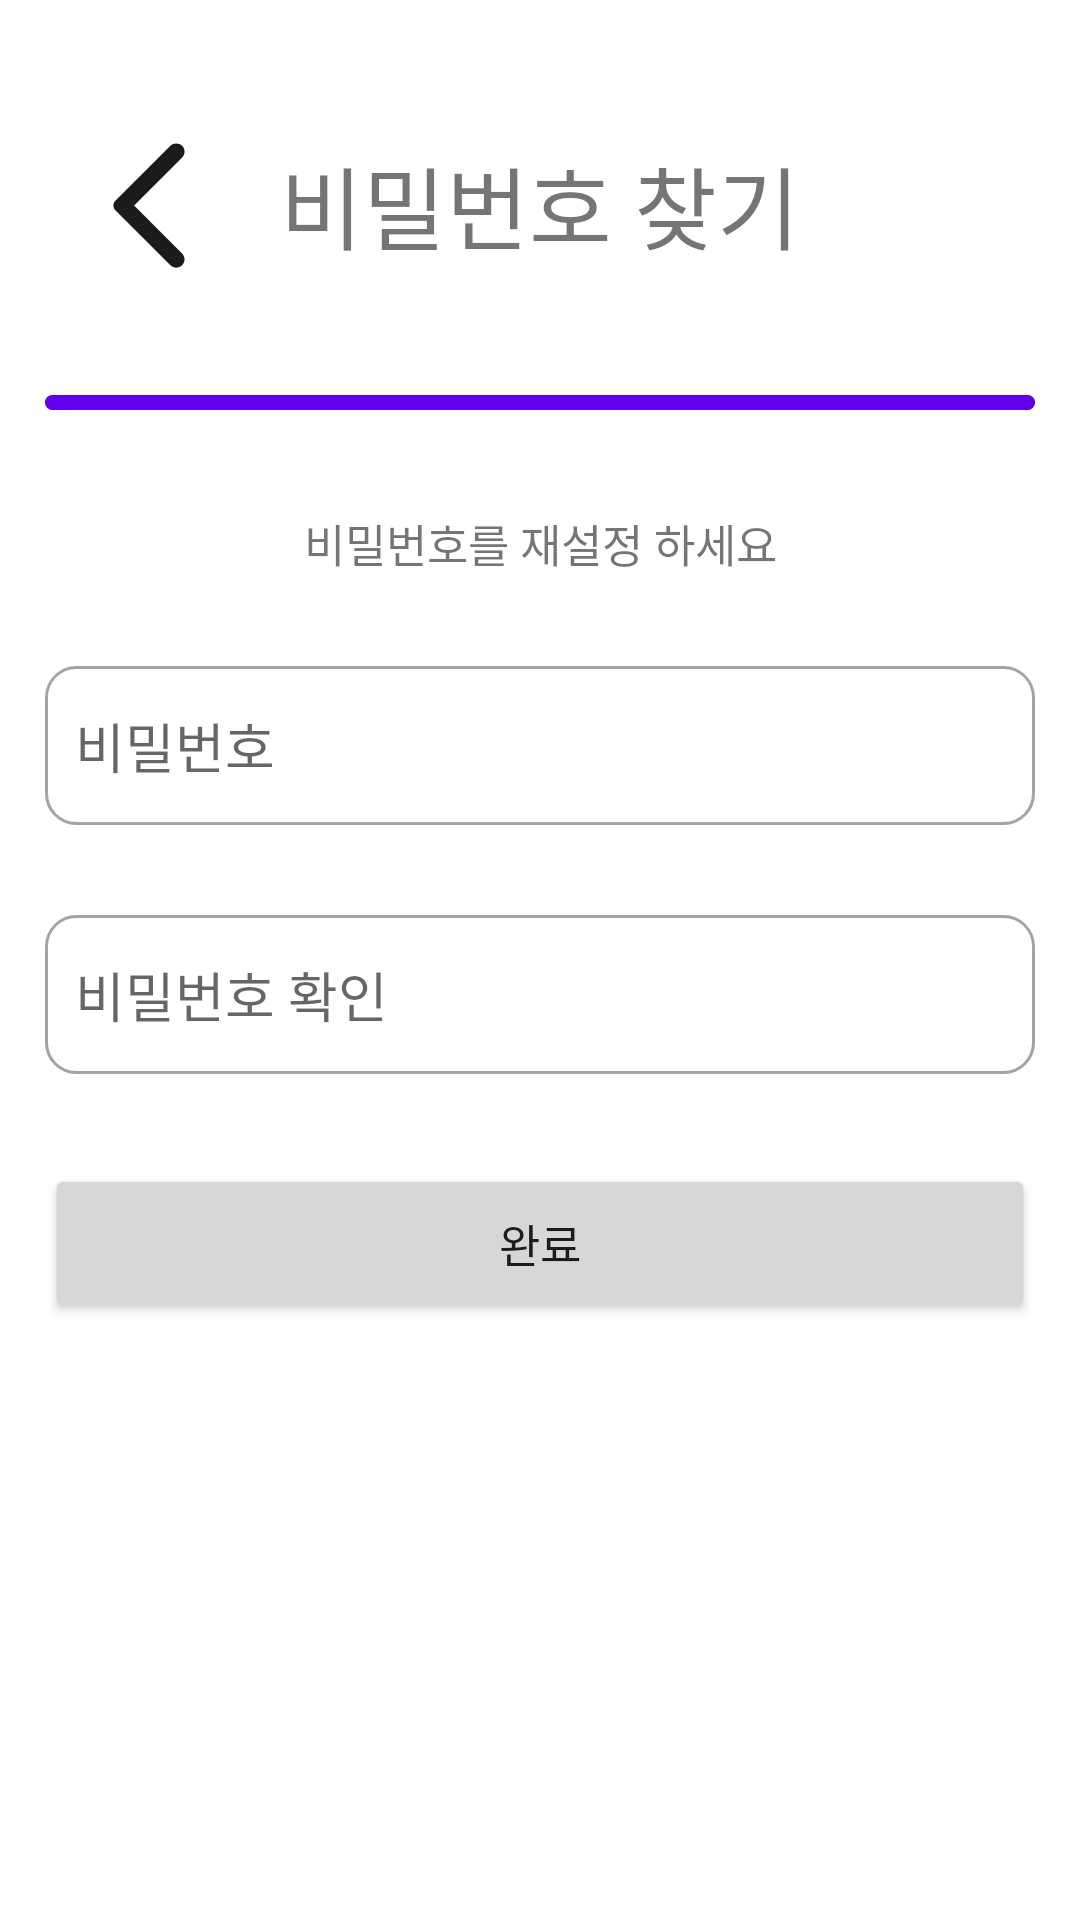

Where to tap for icons on this 1080 × 1920 app screen, as (x,y):
arrow back: (149,205)
